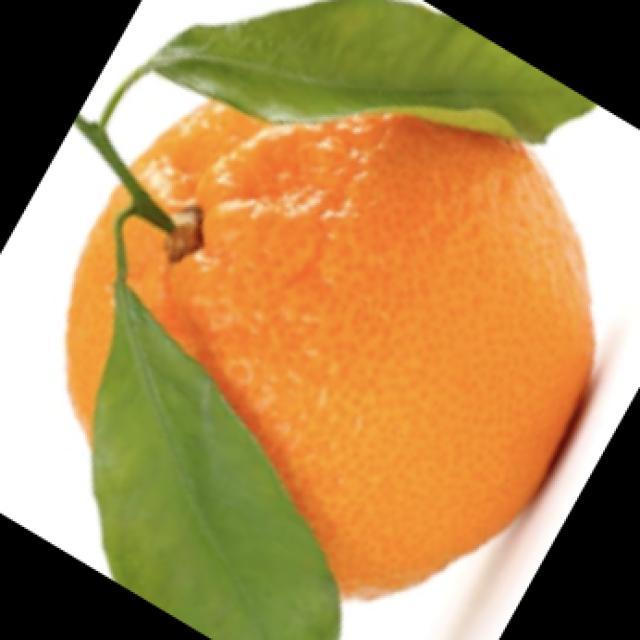Orange: (65, 98, 596, 602)
